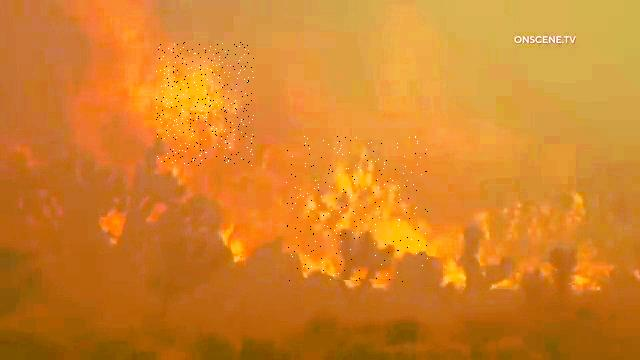fire: (287, 137, 429, 283), (156, 43, 254, 167)
